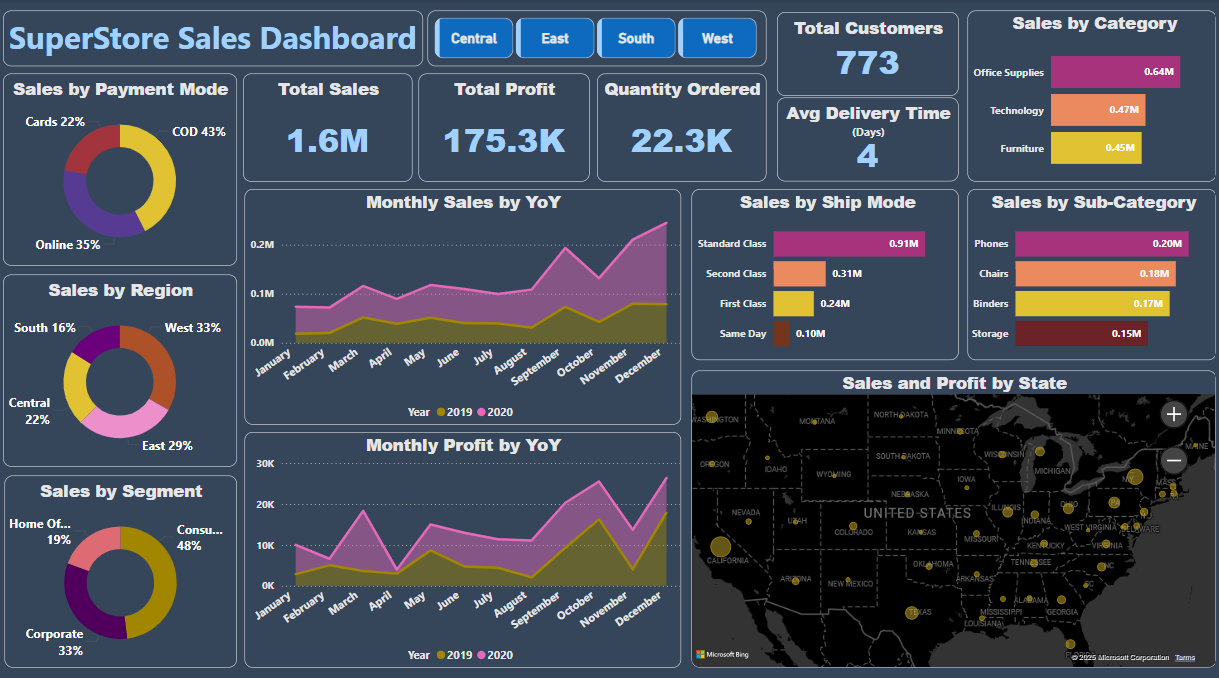

What the dashboard file says about the page in this screenshot:
{"tool":"powerbi","page":{"name":"Page 1","canvas":[1480,820],"ordinal":0},"visuals":[{"type":"textbox","box":[7.2,12.7,507.2,67],"z":0},{"type":"advancedSlicerVisual","fields":{"Values":["Sheet1.Region"]},"box":[519.9,12.7,409.4,67],"z":1000},{"type":"donutChart","title":"Sales by Payment Mode","fields":{"Category":["Sheet1.Payment Mode"],"Y":["Sum(Sheet1.Sales)"]},"box":[7.2,88.8,282.6,231.9],"z":2000},{"type":"donutChart","title":"Sales by Region","fields":{"Category":["Sheet1.Region"],"Y":["Sum(Sheet1.Sales)"]},"box":[7.2,331.5,282.6,231.9],"z":3000},{"type":"donutChart","title":"Sales by Segment","fields":{"Category":["Sheet1.Segment"],"Y":["Sum(Sheet1.Sales)"]},"box":[9.1,574.3,280.8,231.9],"z":4000},{"type":"card","title":"Total Sales","fields":{"Values":["Sum(Sheet1.Sales)"]},"box":[297.1,88.8,204.7,130.4],"z":5000},{"type":"card","title":"Quantity Ordered","fields":{"Values":["Sum(Sheet1.Quantity)"]},"box":[724.6,88.8,204.7,130.4],"z":6000},{"type":"card","title":"Total Profit","fields":{"Values":["Sum(Sheet1.Profit)"]},"box":[509,88.8,206.5,130.4],"z":7000},{"type":"clusteredBarChart","title":"Sales by Ship Mode","fields":{"Category":["Sheet1.Ship Mode"],"Y":["Sum(Sheet1.Sales)"]},"box":[838.7,228.3,322.5,206.5],"z":8000},{"type":"clusteredBarChart","title":"Sales by Category","fields":{"Category":["Sheet1.Category"],"Y":["Sum(Sheet1.Sales)"]},"box":[1172.1,12.7,300.7,206.5],"z":9000},{"type":"clusteredBarChart","title":"Sales by Sub-Category","fields":{"Category":["Sheet1.Sub-Category"],"Y":["Sum(Sheet1.Sales)"]},"box":[1172.1,228.3,300.7,206.5],"z":10000},{"type":"stackedAreaChart","title":"Monthly Sales by YoY","fields":{"Category":["Sheet1.Order Date.Variation.Date Hierarchy.Month","Sheet1.Order Date.Variation.Date Hierarchy.Day"],"Y":["Sum(Sheet1.Sales)"],"Series":["Sheet1.Order Date.Variation.Date Hierarchy.Year"]},"box":[298.9,228.3,527.2,284.4],"z":11000},{"type":"stackedAreaChart","title":"Monthly Profit by YoY","fields":{"Category":["Sheet1.Order Date.Variation.Date Hierarchy.Month","Sheet1.Order Date.Variation.Date Hierarchy.Day"],"Series":["Sheet1.Order Date.Variation.Date Hierarchy.Year"],"Y":["Sum(Sheet1.Profit)"]},"box":[298.9,521.7,527.2,284.4],"z":12000},{"type":"map","title":"Sales and Profit by State","fields":{"Size":["Sum(Sheet1.Sales)"],"Category":["Sheet1.State"]},"box":[838.7,447.4,634,358.7],"z":13000},{"type":"card","title":"Avg Delivery Time","fields":{"Values":["Avg(Sheet1.DeliveryTime)"]},"box":[942,117.7,219.2,101.4],"z":14000},{"type":"card","title":"Total Customers","fields":{"Values":["Count(Sheet1.Customer ID)"]},"box":[942,14.5,219.2,101.4],"z":14001}]}

Visuals, with their boxes in screenshot pixels (x1, y1, x2, y2), scaled from the page's 1480x820 canvas onto the 1219x678 screenshot:
textbox: [6, 11, 424, 66]
advancedSlicerVisual - Sheet1.Region: [428, 11, 765, 66]
"Sales by Payment Mode" donutChart: [6, 73, 239, 265]
"Sales by Region" donutChart: [6, 274, 239, 466]
"Sales by Segment" donutChart: [7, 475, 239, 667]
"Total Sales" card: [245, 73, 413, 181]
"Quantity Ordered" card: [597, 73, 765, 181]
"Total Profit" card: [419, 73, 589, 181]
"Sales by Ship Mode" clusteredBarChart: [691, 189, 956, 360]
"Sales by Category" clusteredBarChart: [965, 11, 1213, 181]
"Sales by Sub-Category" clusteredBarChart: [965, 189, 1213, 360]
"Monthly Sales by YoY" stackedAreaChart: [246, 189, 680, 424]
"Monthly Profit by YoY" stackedAreaChart: [246, 431, 680, 667]
"Sales and Profit by State" map: [691, 370, 1213, 667]
"Avg Delivery Time" card: [776, 97, 956, 181]
"Total Customers" card: [776, 12, 956, 96]
